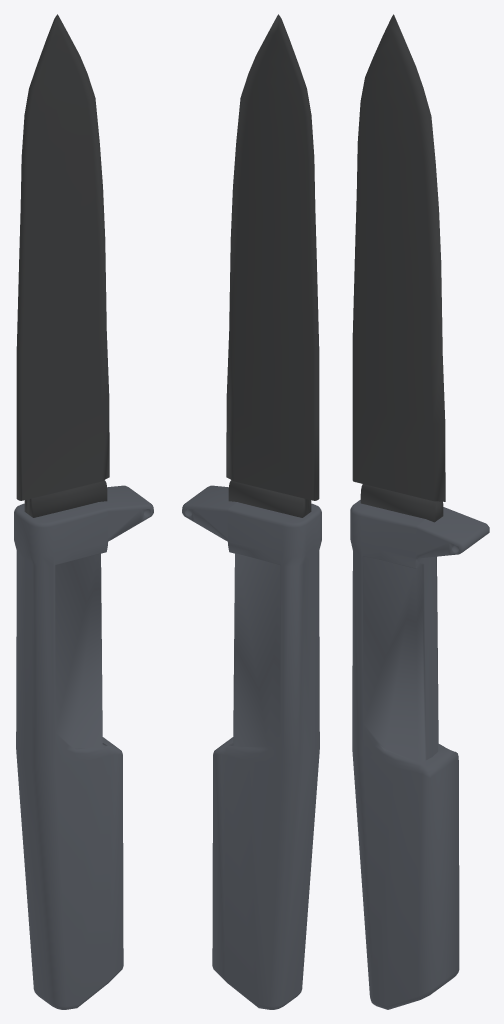
The model's file is knife_test.glb.
3 views of the same model, side by side, from view 1: azimuth 30°, elevation 25°; view 2: azimuth 150°, elevation 25°; view 3: azimuth 330°, elevation 25° (orthographic).
Parts seen in each view (by area): view 1: Cube.001, Cube.002; view 2: Cube.001, Cube.002; view 3: Cube.001, Cube.002.
Boxes of the visible parts, box(x1,y1,x2,y2) form: Cube.001: box(14, 485, 153, 1009); Cube.002: box(16, 14, 109, 517); Cube.001: box(182, 485, 321, 1009); Cube.002: box(226, 14, 319, 517); Cube.001: box(350, 500, 489, 1009); Cube.002: box(352, 14, 445, 522).
Size of the model in its own units: 0.3682 by 2.81 by 0.1493.
2 materials, 2 textured.
